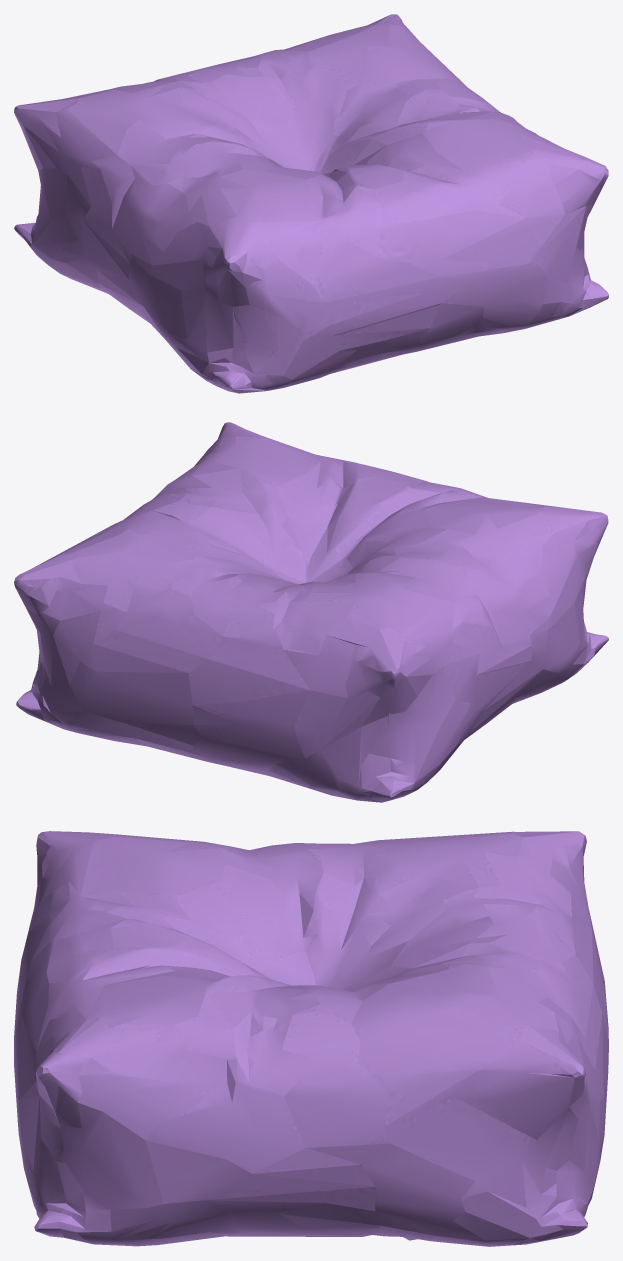
Rendered from cushion.7d3f3337.glb.
3 views of the same model, one above another, from view 1: azimuth 30°, elevation 25°; view 2: azimuth 150°, elevation 25°; view 3: azimuth 270°, elevation 25° (orthographic). The views are drawn at different scales.
Visible parts, largest first — view 1: output_unwrapped; view 2: output_unwrapped; view 3: output_unwrapped.
Boxes of the visible parts, bbox=[...] form: output_unwrapped: bbox=[14, 14, 608, 393]; output_unwrapped: bbox=[14, 422, 608, 802]; output_unwrapped: bbox=[14, 831, 608, 1246].
Bounding box in the file's own units: 1.9 × 0.7943 × 1.9.
1 material, 1 textured.
